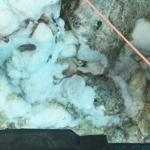alive: (2, 4, 146, 147)
